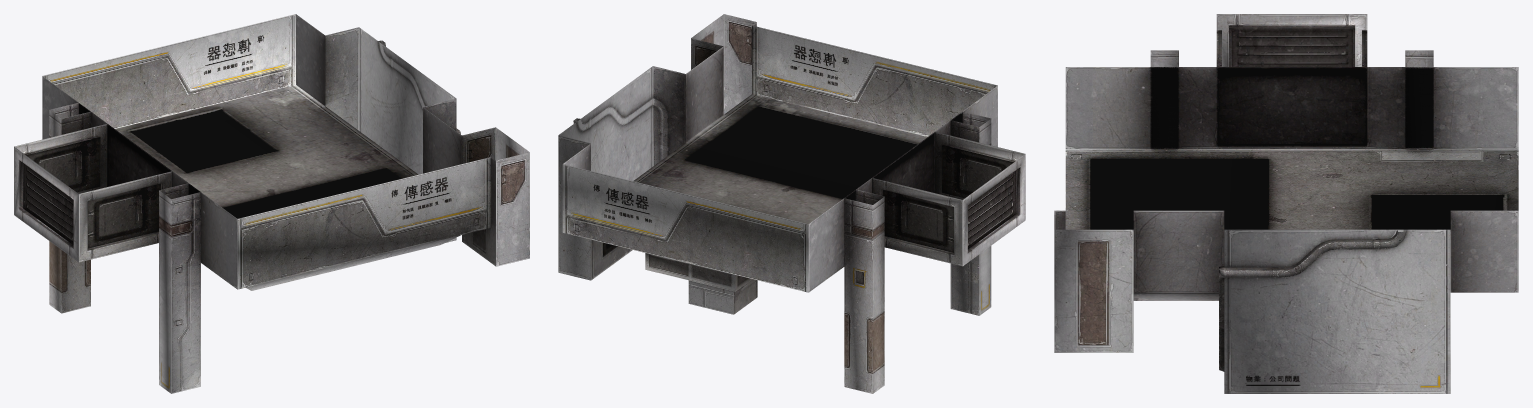
File: sensor_env_ceil_large.dae
3 views of the same model, side by side, from view 1: azimuth 30°, elevation 25°; view 2: azimuth 150°, elevation 25°; view 3: azimuth 270°, elevation 25° (orthographic). The views are drawn at different scales.
Parts seen in each view (by area): view 1: sensor_env_ceil_large; view 2: sensor_env_ceil_large; view 3: sensor_env_ceil_large.
Boxes of the visible parts, left/top/right/bottom form: sensor_env_ceil_large: left=14, top=14, right=529, bottom=393; sensor_env_ceil_large: left=558, top=14, right=1025, bottom=393; sensor_env_ceil_large: left=1054, top=14, right=1518, bottom=393.
Bounding box in the file's own units: 1.42 × 0.6876 × 1.28.
